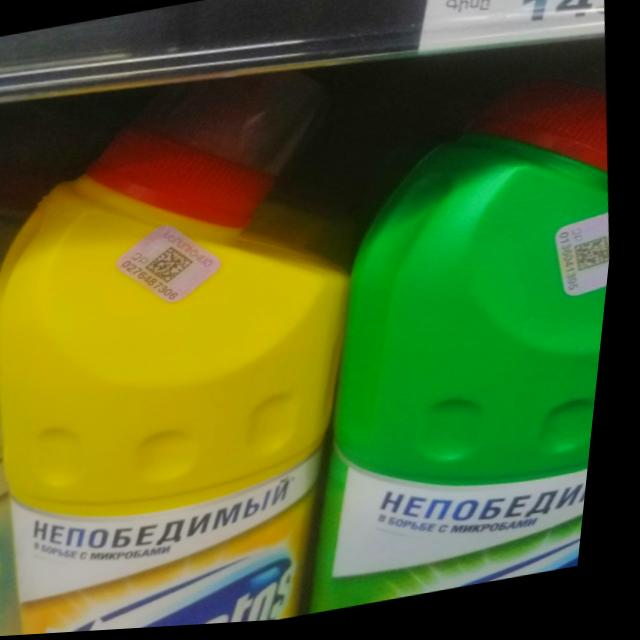datamatrix: (146, 244, 205, 292), (575, 242, 619, 280)
